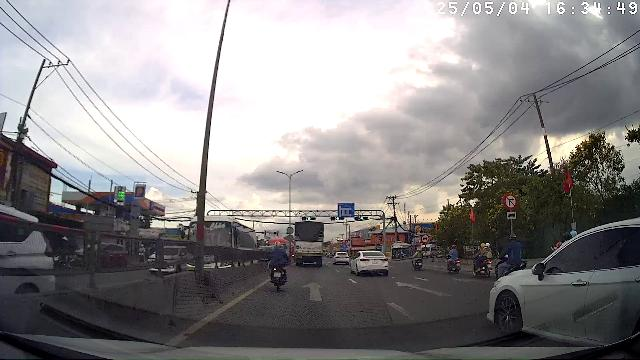123b-cam-re-phai: (503, 193, 518, 210)
